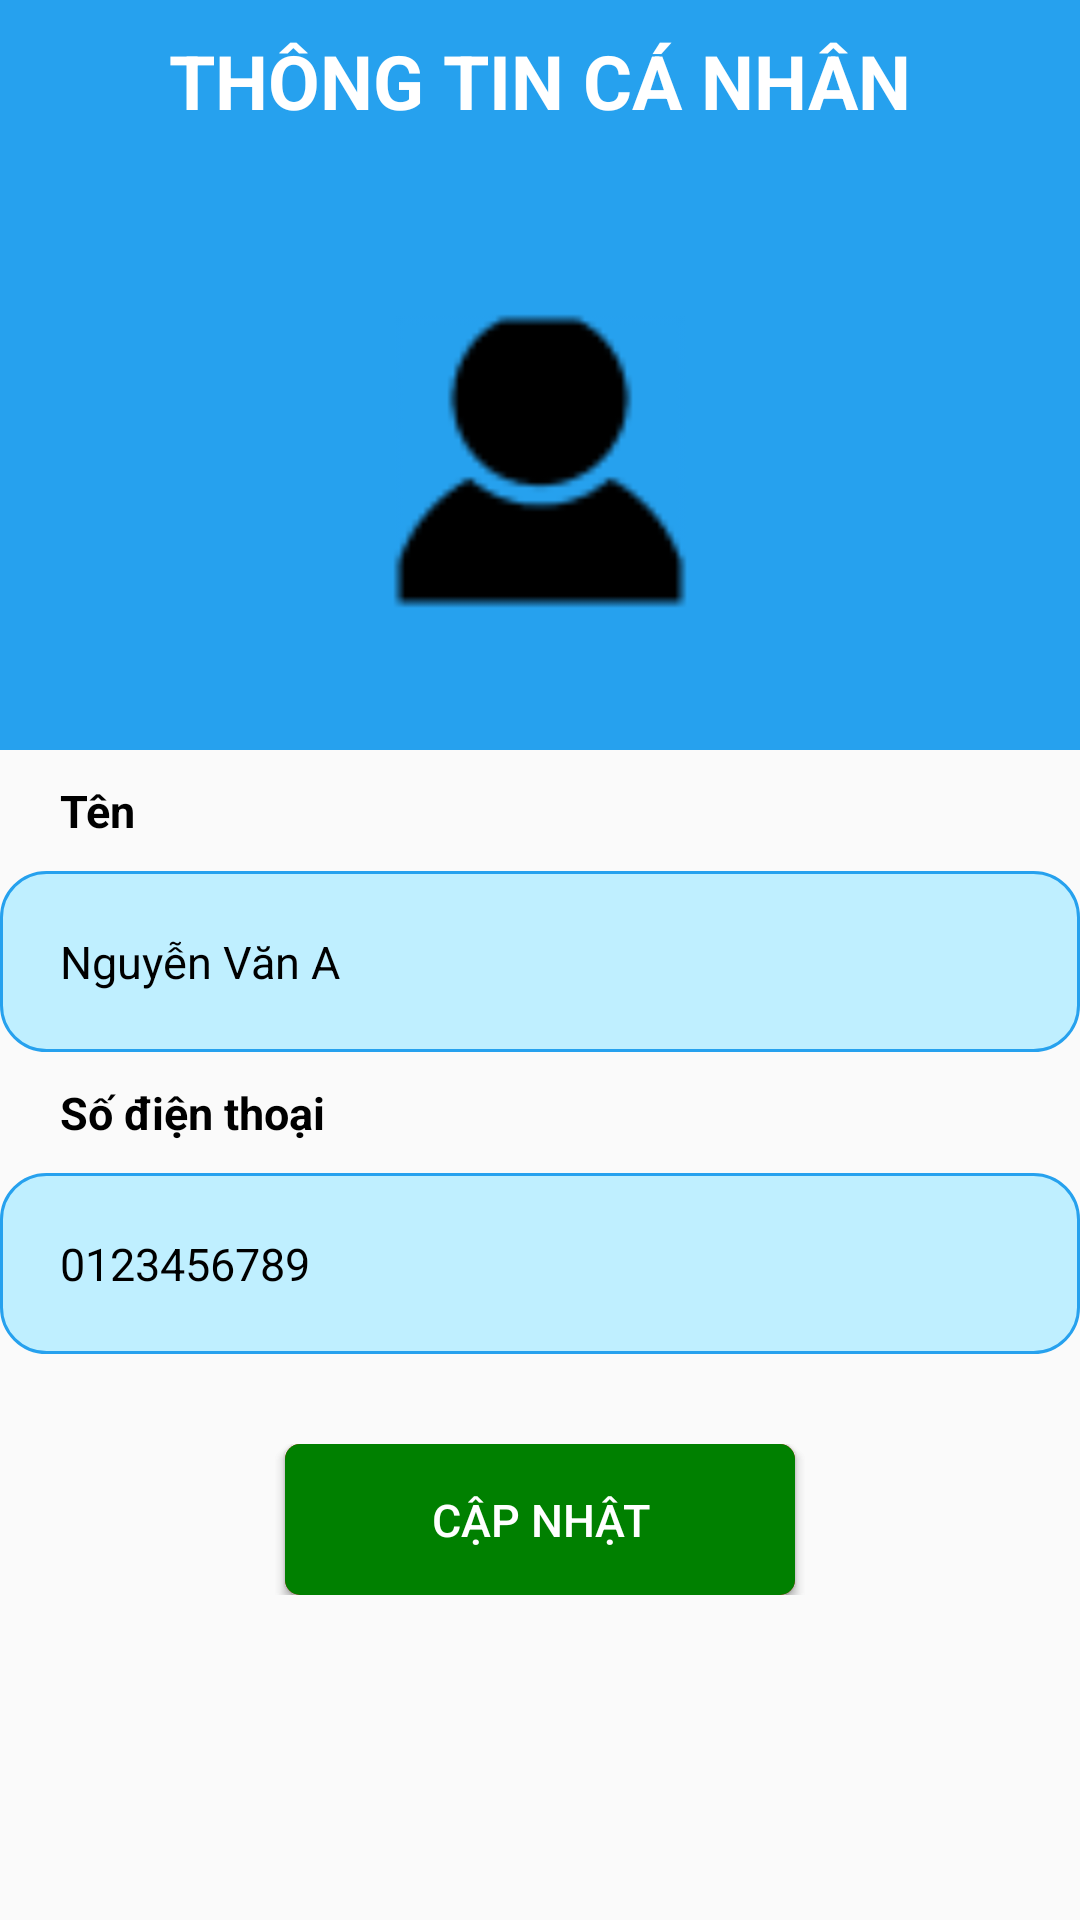

Named icons in this screenshot (1080×1920) and their bounding boxes, rect(x1, y1, x2, y2):
personal: rect(394, 315, 686, 607)
